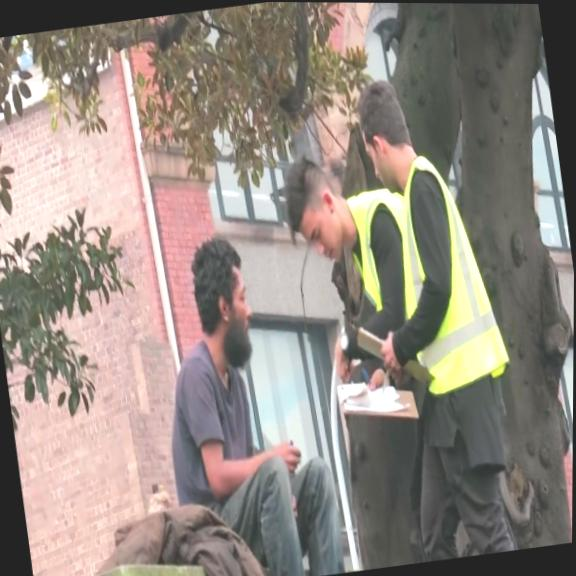safety_vest: (387, 146, 514, 397), (341, 182, 423, 326)
